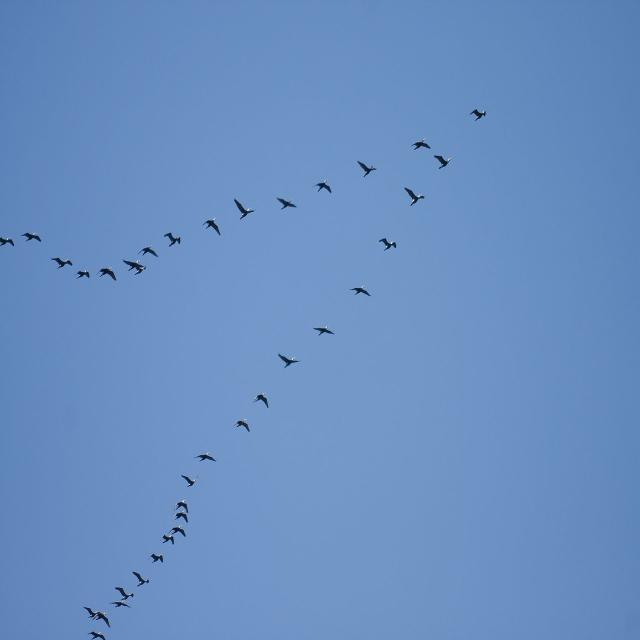bird: (234, 198, 258, 222), (404, 186, 426, 208), (122, 258, 147, 276), (358, 160, 379, 178), (162, 231, 183, 248), (433, 154, 453, 171), (377, 236, 398, 252), (112, 586, 136, 600), (51, 256, 73, 271), (203, 220, 221, 237), (280, 355, 301, 369), (98, 266, 116, 282), (132, 572, 150, 588), (253, 394, 271, 410), (470, 109, 489, 124), (196, 451, 216, 465), (22, 231, 42, 245), (276, 197, 297, 210), (314, 182, 332, 197), (167, 524, 186, 538), (411, 139, 431, 152), (95, 612, 111, 628), (139, 245, 157, 259), (183, 474, 199, 489), (352, 288, 372, 300), (233, 418, 250, 432), (313, 327, 334, 338), (111, 598, 132, 609), (150, 551, 166, 565), (172, 511, 189, 524), (173, 499, 190, 512), (160, 534, 178, 546), (82, 606, 100, 618), (0, 235, 15, 249), (76, 269, 92, 281), (88, 629, 107, 639)
